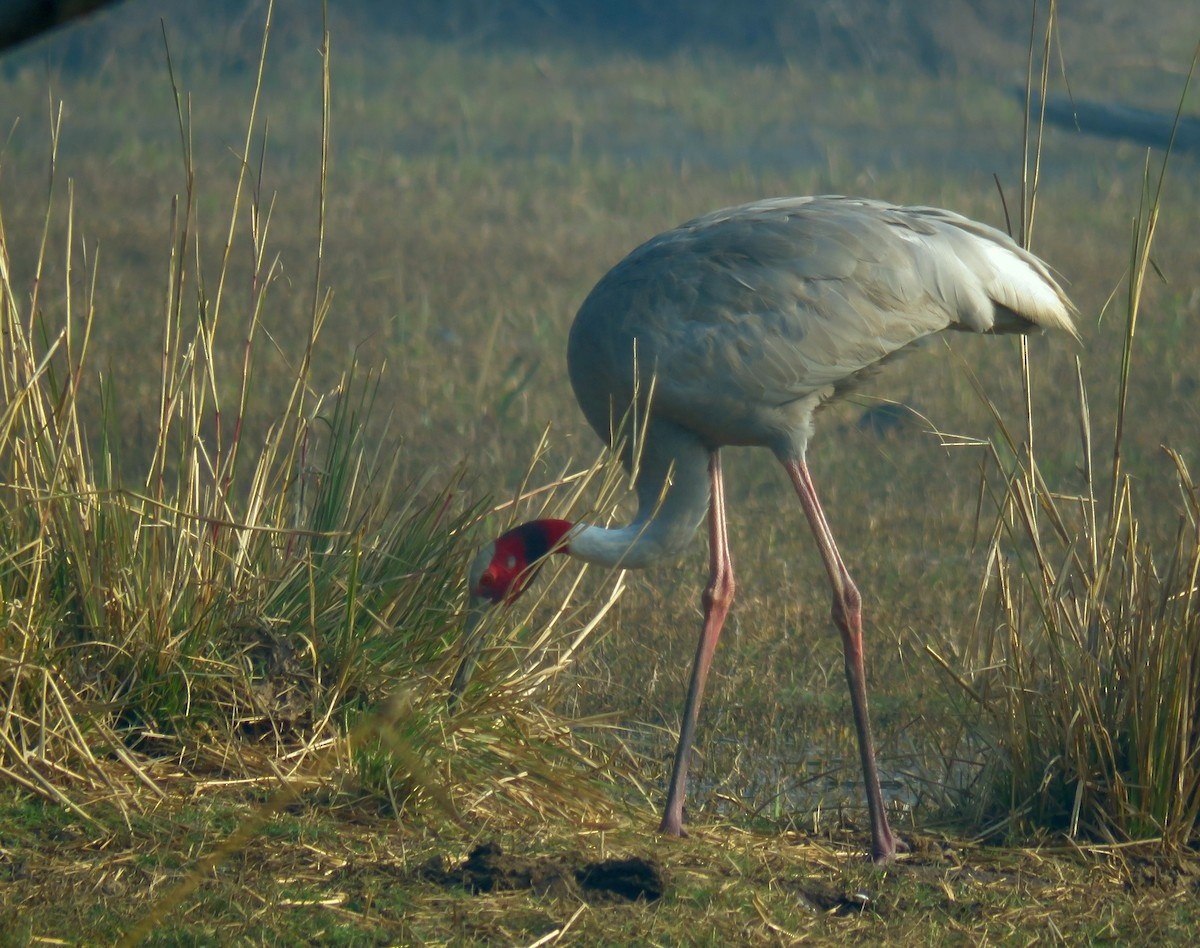crane: (439, 183, 1098, 852)
